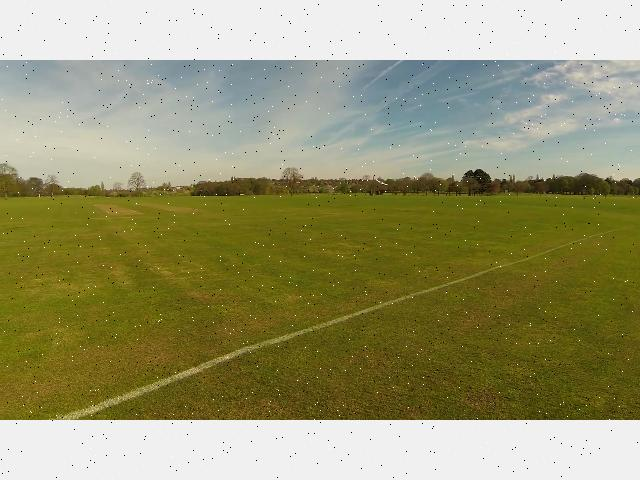Anti-Drone: (372, 176, 390, 188)
